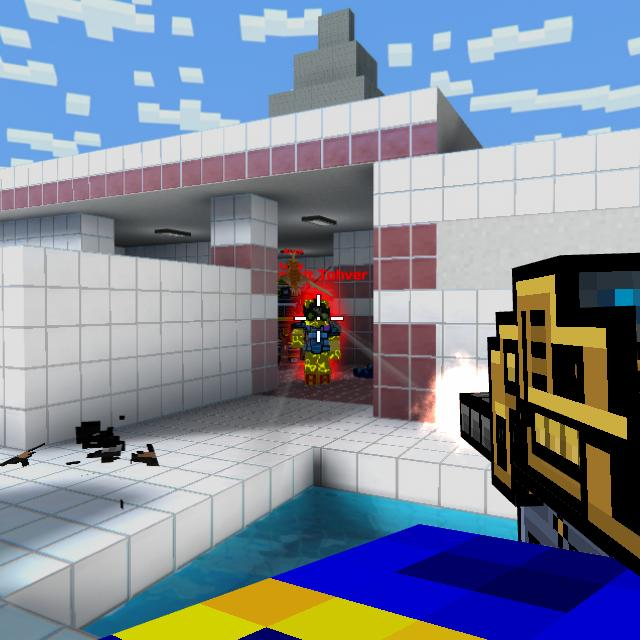Enemy: (289, 297, 342, 386)
